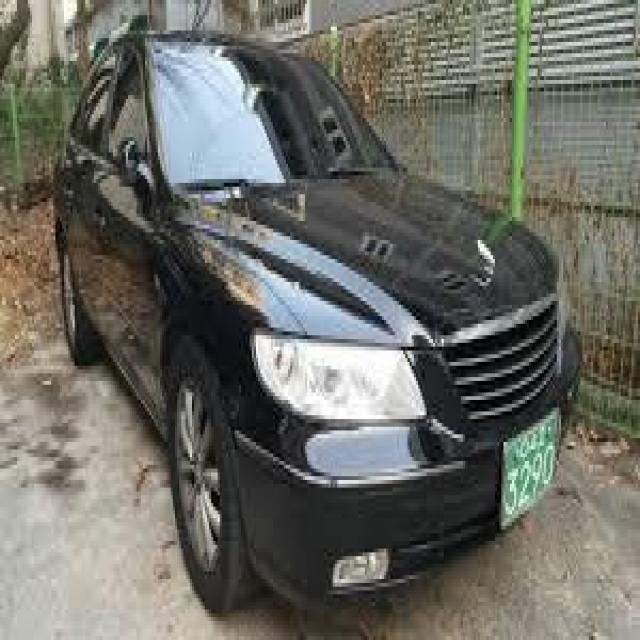car: (53, 26, 585, 622)
illegal_plate: (496, 411, 574, 534)
